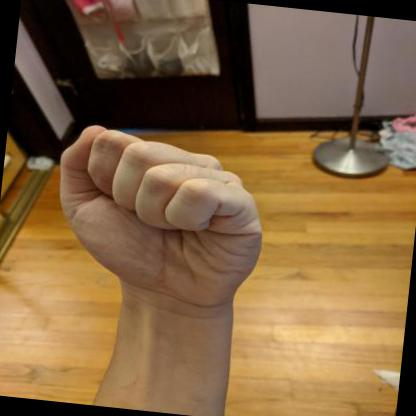A: (59, 125, 261, 319)
